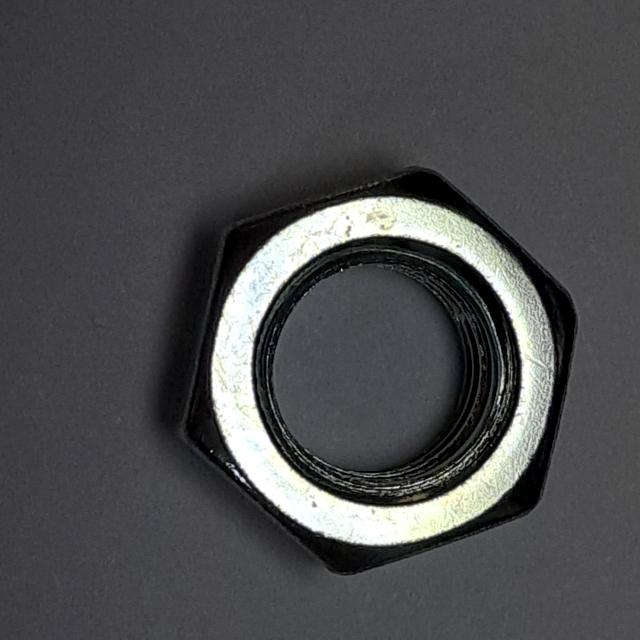Excellent: (156, 149, 592, 590)
